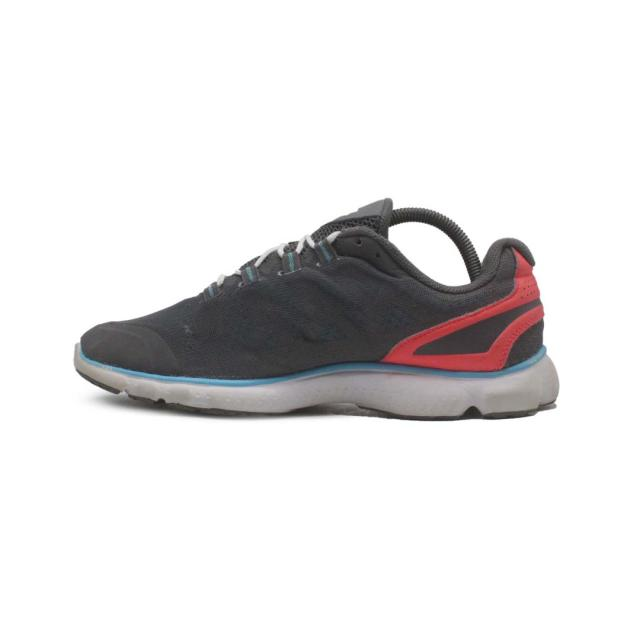heel: (478, 237, 544, 376)
midsole: (76, 343, 559, 424)
uppersole: (76, 201, 482, 377)
